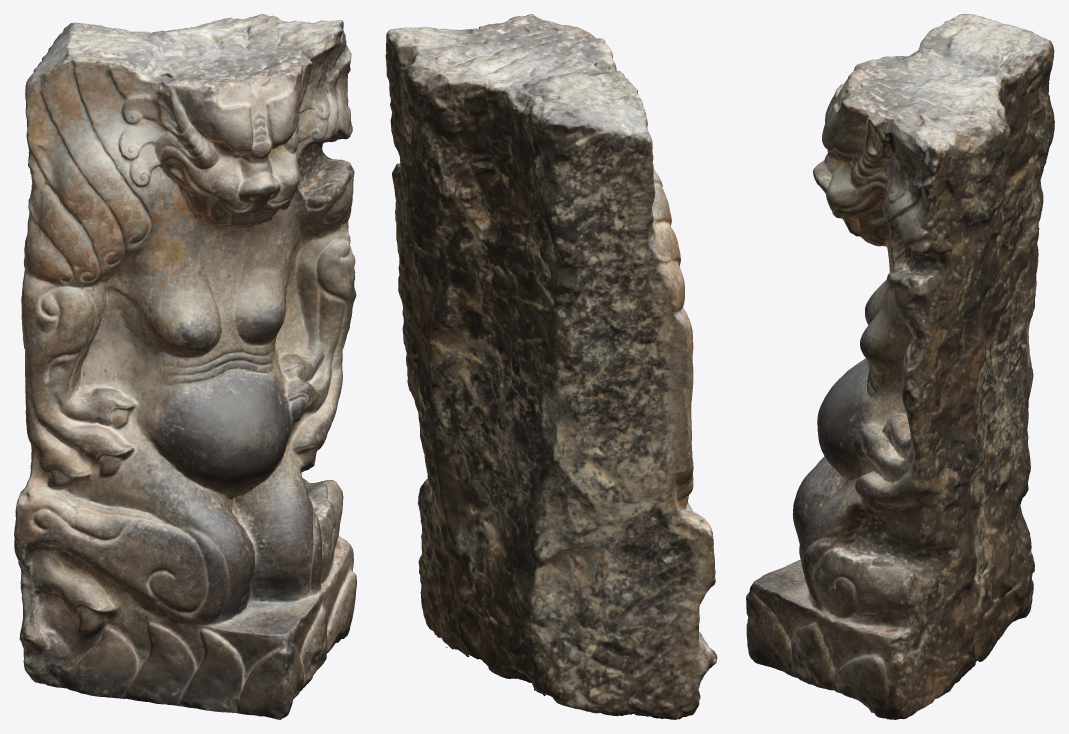
The model's file is winged-guardian.glb.
The picture shows the model from 3 angles, left to right: view 1: azimuth 30°, elevation 25°; view 2: azimuth 150°, elevation 25°; view 3: azimuth 270°, elevation 25°; orthographic projection. The views are drawn at different scales.
Size of the model in its own units: 0.4925 by 0.8695 by 0.4068.
Materials: 1 (1 with a texture image).
